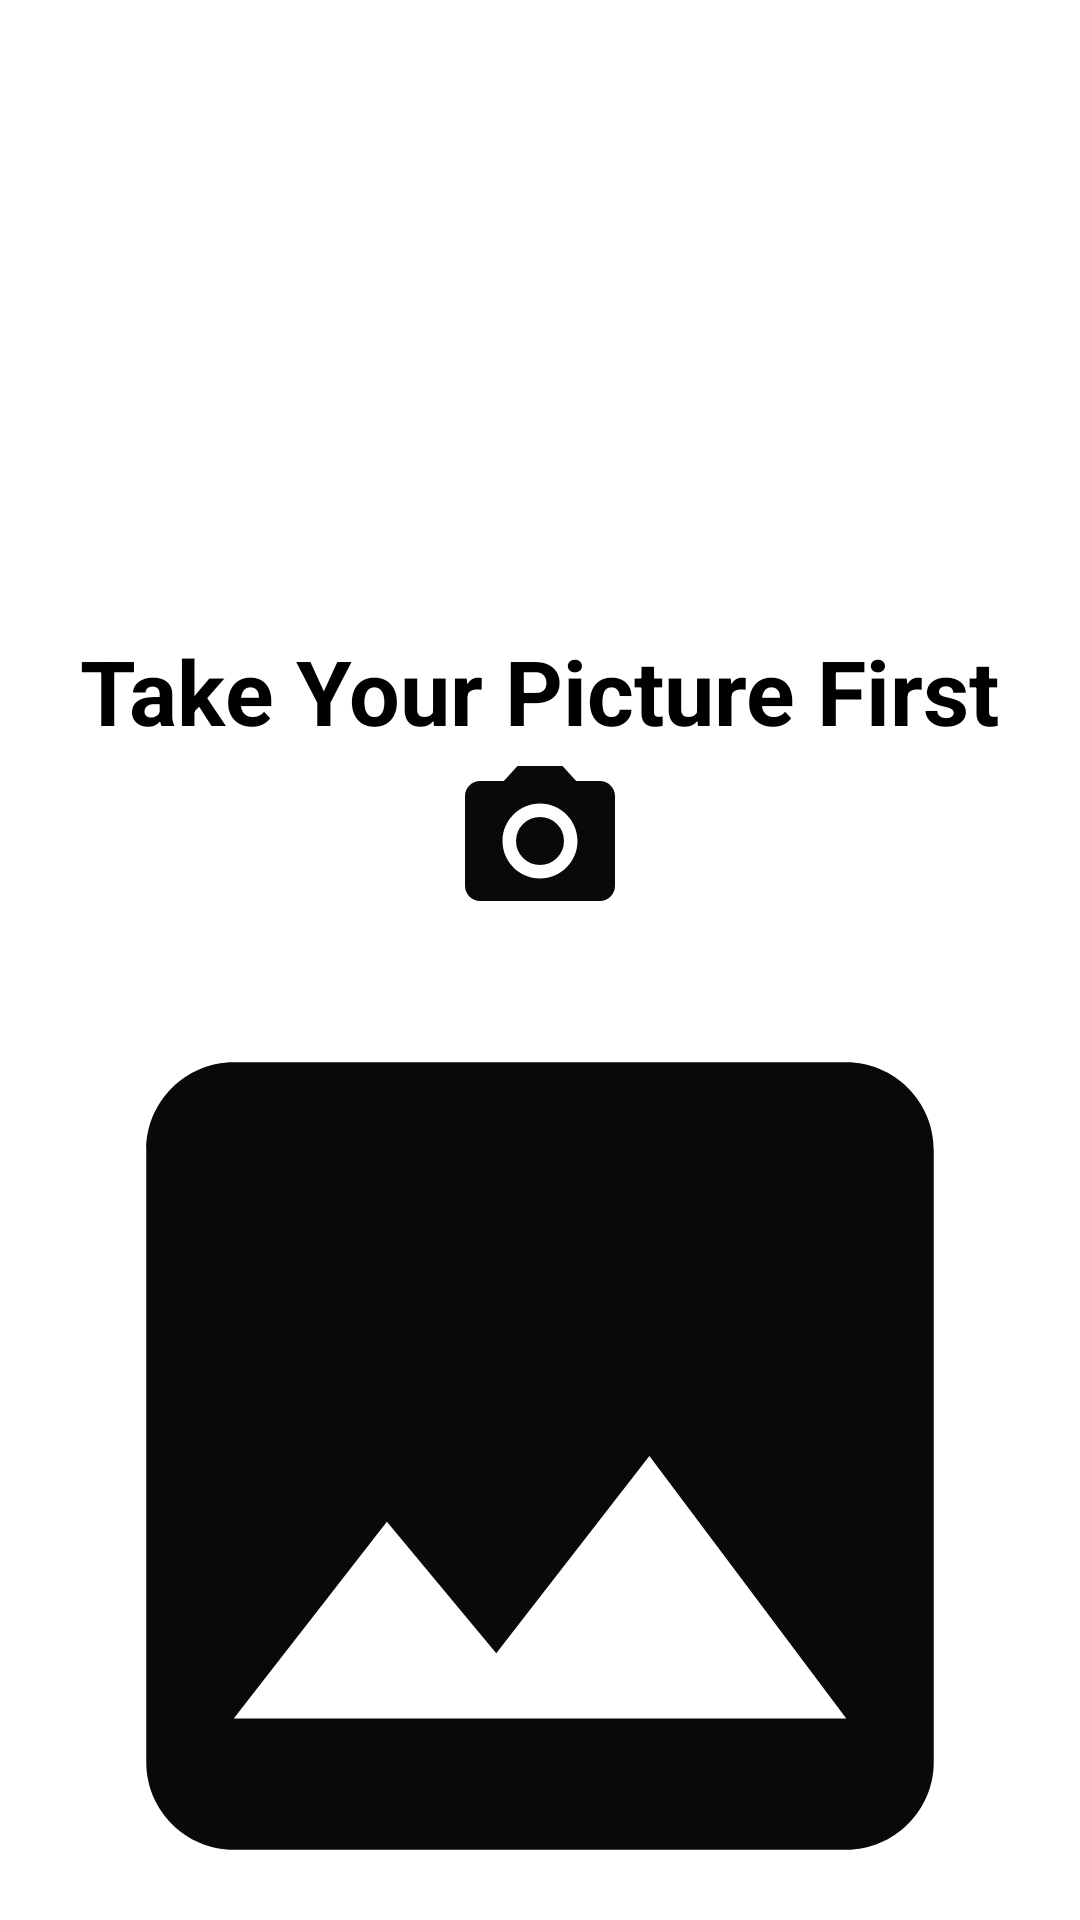

Screen size 1080x1920. Icon name, then its box in pixels as (x1, y1, x2, y2):
camera: (465, 766, 615, 901)
